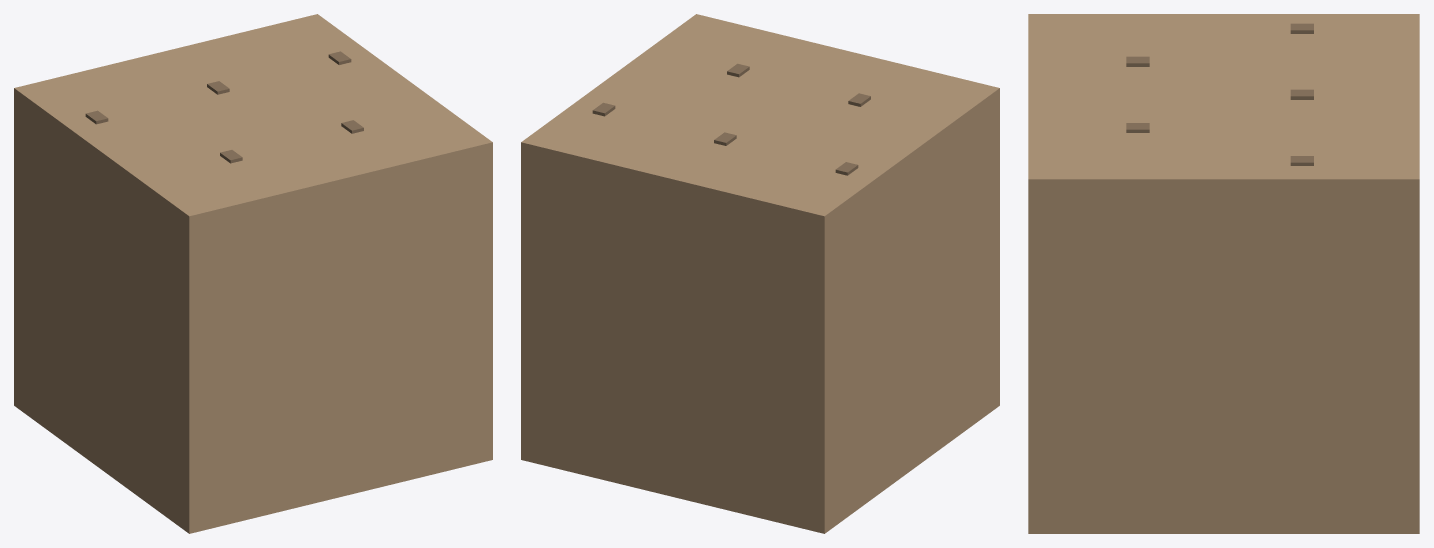
File: 15_vale_timber.glb
The picture shows the model from 3 angles, left to right: view 1: azimuth 30°, elevation 25°; view 2: azimuth 150°, elevation 25°; view 3: azimuth 270°, elevation 25°; orthographic projection. The views are drawn at different scales.
Visible parts, largest first — view 1: Core; view 2: Core; view 3: Core.
Part boxes in pixels (x1,y1,x2,y2): Core: [14, 14, 492, 533]; Core: [521, 14, 999, 533]; Core: [1028, 14, 1419, 533].
Size of the model in its own units: 1 by 1.02 by 1.
